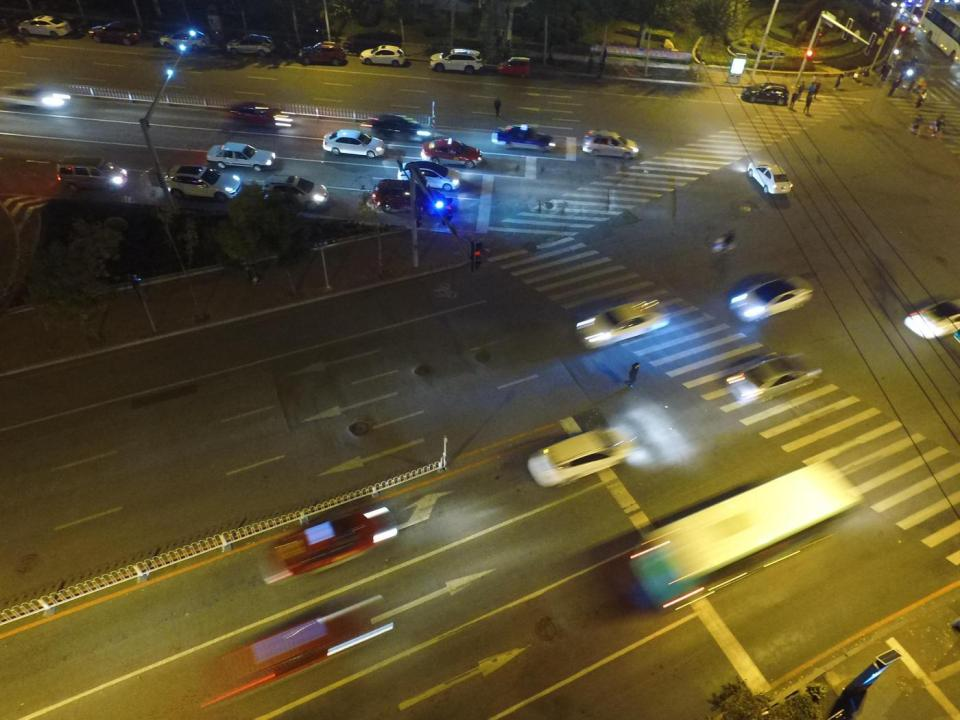bus: (626, 463, 866, 608), (919, 2, 960, 65)
car: (229, 614, 366, 680), (267, 510, 385, 572), (526, 427, 637, 489), (719, 353, 825, 406), (575, 298, 673, 346), (724, 269, 814, 320), (376, 174, 461, 224), (906, 286, 960, 342), (390, 154, 465, 192), (0, 80, 77, 117), (163, 164, 242, 196), (421, 133, 483, 171), (266, 173, 335, 207), (204, 140, 274, 171), (743, 158, 796, 197), (322, 128, 386, 160), (228, 99, 289, 131), (581, 128, 642, 159), (485, 124, 557, 150), (370, 112, 431, 141), (427, 46, 484, 75), (84, 20, 142, 44), (298, 38, 348, 65), (14, 16, 70, 40), (356, 44, 408, 68), (742, 79, 789, 105), (224, 29, 275, 52), (162, 26, 210, 48), (905, 5, 927, 28), (897, 14, 911, 30)
van: (56, 154, 130, 192)
